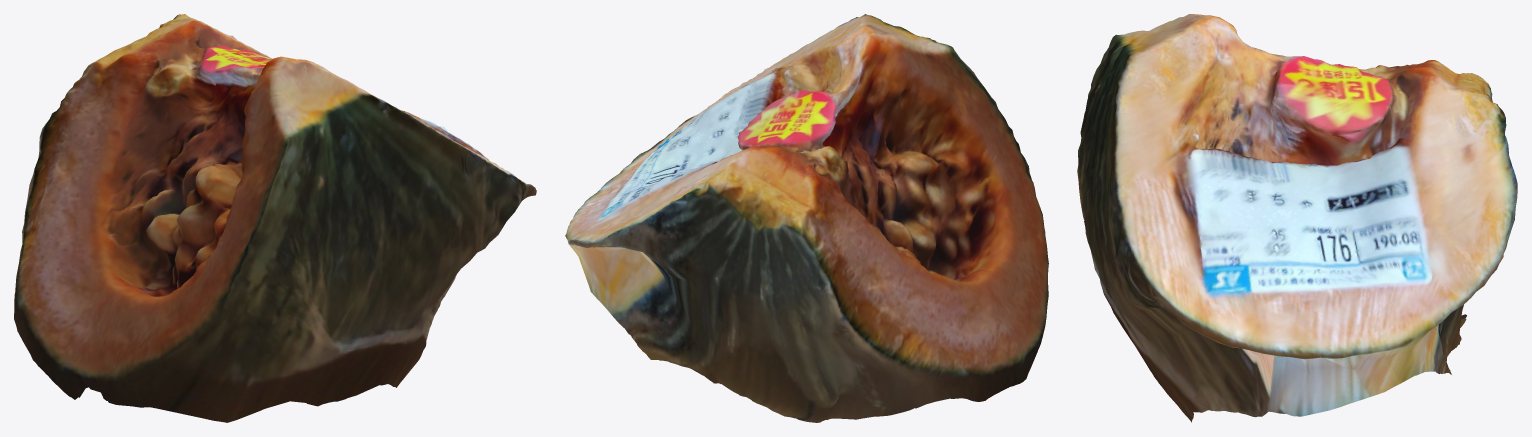
File: 3Ddata2.glb
3 renders of one model, left to right at view 1: azimuth 30°, elevation 25°; view 2: azimuth 150°, elevation 25°; view 3: azimuth 270°, elevation 25°, orthographic. The views are drawn at different scales.
Visible parts, largest first — view 1: a78aa297-f6e9-415a-9200-09e6d3763d40; view 2: a78aa297-f6e9-415a-9200-09e6d3763d40; view 3: a78aa297-f6e9-415a-9200-09e6d3763d40.
Part boxes in pixels (x1=…): a78aa297-f6e9-415a-9200-09e6d3763d40: x1=14, y1=14, x2=536, y2=422; a78aa297-f6e9-415a-9200-09e6d3763d40: x1=565, y1=14, x2=1048, y2=422; a78aa297-f6e9-415a-9200-09e6d3763d40: x1=1077, y1=14, x2=1517, y2=422.
Size of the model in its own units: 0.7097 by 0.522 by 0.5869.
Materials: 1 (1 with a texture image).
